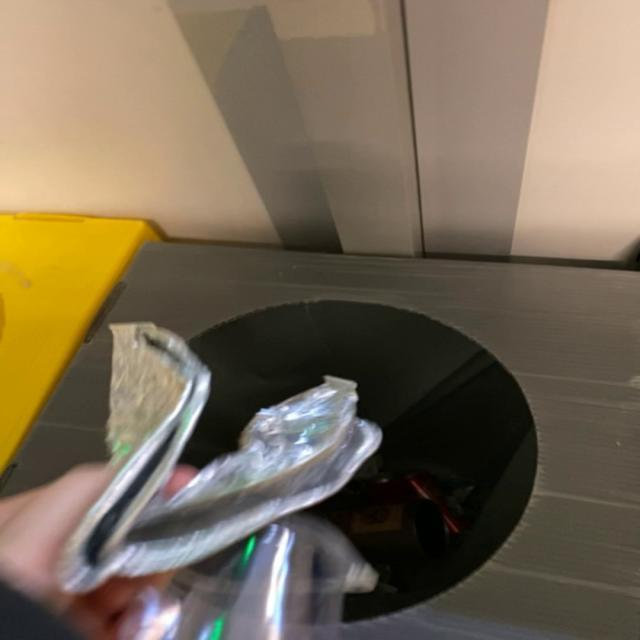Bin: (2, 243, 639, 640)
Metal: (60, 322, 381, 594)
